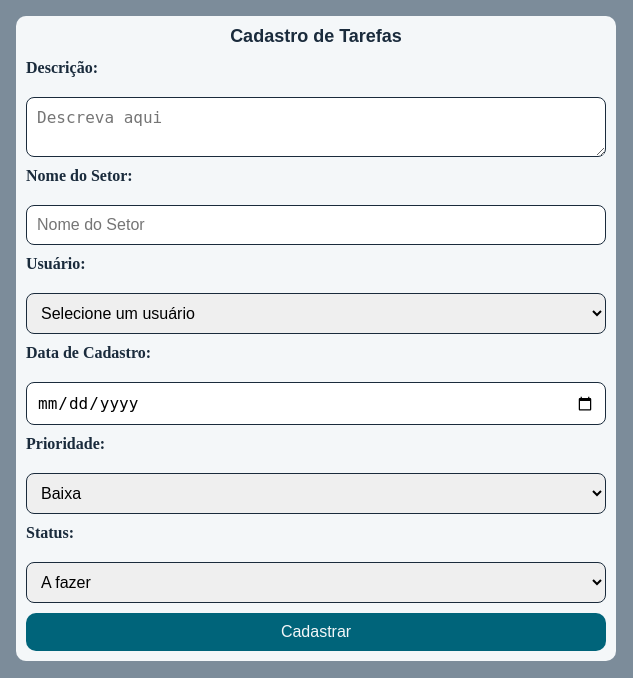
Test: Cadastro de Tarefas › deve remover números do campo Nome do Setor automaticamente
The width and height of the screenshot is (633, 678).
Type "Setor1234" into the field labelled "Nome do Setor:" at (316, 225), box [26, 205, 606, 245]
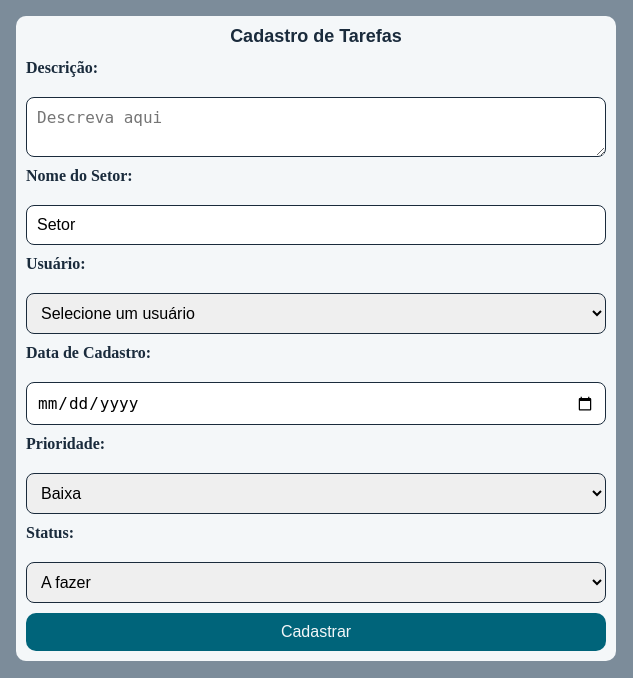
Check: the field labelled "Nome do Setor:" holds "Setor", box [26, 205, 606, 245]
